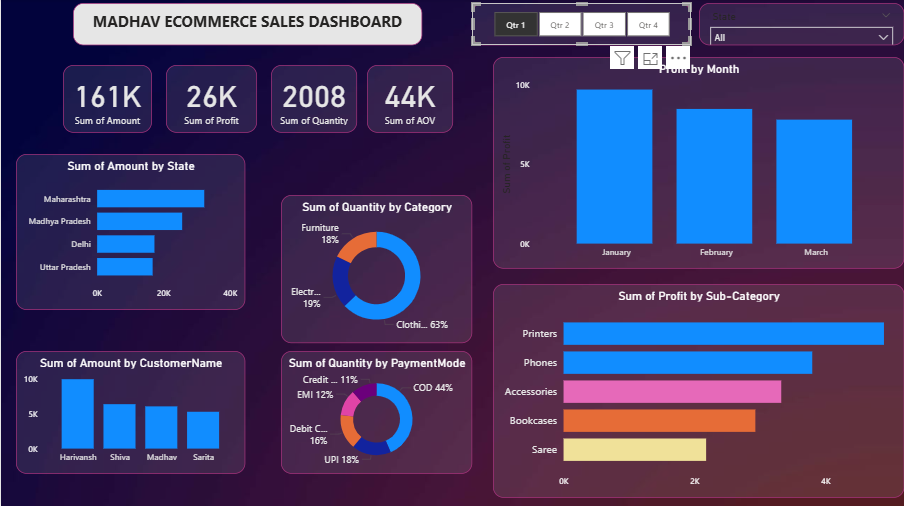

This screenshot's page, from the dashboard's own definition file:
{"tool":"powerbi","page":{"name":"Page 1","canvas":[1280,720],"ordinal":0},"visuals":[{"type":"textbox","box":[102,5.7,494.6,59.5],"z":0},{"type":"columnChart","title":" Profit by Month","fields":{"Category":["Orders.Order Date.Variation.Date Hierarchy.Month"],"Y":["Details.Profit"]},"box":[697.3,82.2,582.5,300.5],"z":1000},{"type":"barChart","fields":{"Category":["Details.Sub-Category"],"Y":["Details.Profit"]},"box":[697.3,403.9,582.5,303.3],"z":2000},{"type":"donutChart","fields":{"Category":["Details.Category"],"Y":["Details.Quantity"]},"box":[396.9,277.8,270.7,209.8],"z":3000},{"type":"donutChart","fields":{"Y":["Details.Quantity"],"Category":["Details.PaymentMode"]},"box":[396.9,498.9,270.7,174.3],"z":4000},{"type":"card","fields":{"Values":["Details.Amount"]},"box":[87.9,93.5,126.1,96.4],"z":5000},{"type":"card","fields":{"Values":["Details.Profit"]},"box":[233.9,93.5,129,96.4],"z":6000},{"type":"card","fields":{"Values":["Details.Quantity"]},"box":[382.7,93.5,121.9,96.4],"z":7000},{"type":"card","fields":{"Values":["Details.AOV"]},"box":[518.7,93.5,121.9,96.4],"z":8000},{"type":"barChart","fields":{"Category":["Orders.State"],"Y":["Details.Amount"]},"box":[21.3,219.7,324.6,221.1],"z":9000},{"type":"columnChart","fields":{"Category":["Orders.CustomerName"],"Y":["Details.Amount"]},"box":[21.3,498.9,324.6,174.3],"z":10000},{"type":"slicer","fields":{"Values":["Orders.Order Date.Variation.Date Hierarchy.Quarter"]},"box":[667.6,5.7,310.4,59.5],"z":11000},{"type":"slicer","fields":{"Values":["Orders.State"]},"box":[989.3,5.7,290.6,59.5],"z":12000}]}

Visuals, with their boxes in screenshot pixels (x1, y1, x2, y2), scaled from the page's 1280x720 canvas onto the 904x506 screenshot:
textbox: left=72, top=4, right=421, bottom=46
" Profit by Month" columnChart: left=492, top=58, right=903, bottom=269
barChart - Details.Sub-Category x Details.Profit: left=492, top=284, right=903, bottom=497
donutChart - Details.Category x Details.Quantity: left=280, top=195, right=471, bottom=343
donutChart - Details.Quantity x Details.PaymentMode: left=280, top=351, right=471, bottom=473
card - Details.Amount: left=62, top=66, right=151, bottom=133
card - Details.Profit: left=165, top=66, right=256, bottom=133
card - Details.Quantity: left=270, top=66, right=356, bottom=133
card - Details.AOV: left=366, top=66, right=452, bottom=133
barChart - Orders.State x Details.Amount: left=15, top=154, right=244, bottom=310
columnChart - Orders.CustomerName x Details.Amount: left=15, top=351, right=244, bottom=473
slicer - Orders.Order Date.Variation.Date Hierarchy.Quarter: left=471, top=4, right=691, bottom=46
slicer - Orders.State: left=699, top=4, right=903, bottom=46
